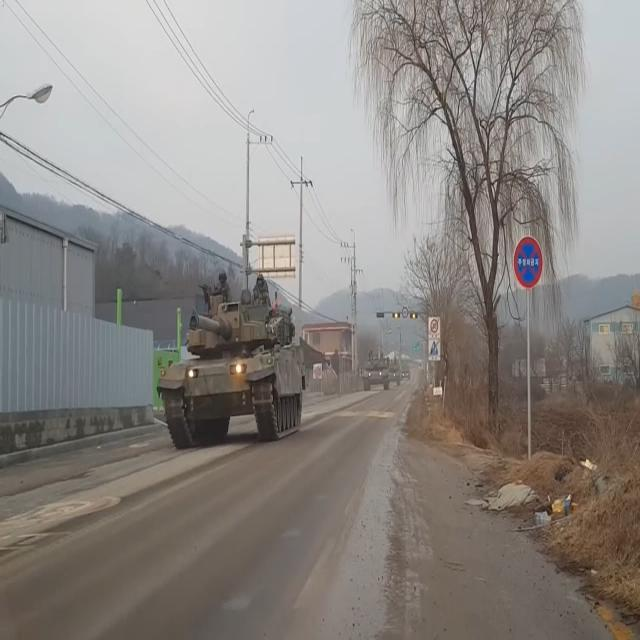korea tank: (153, 267, 304, 455)
